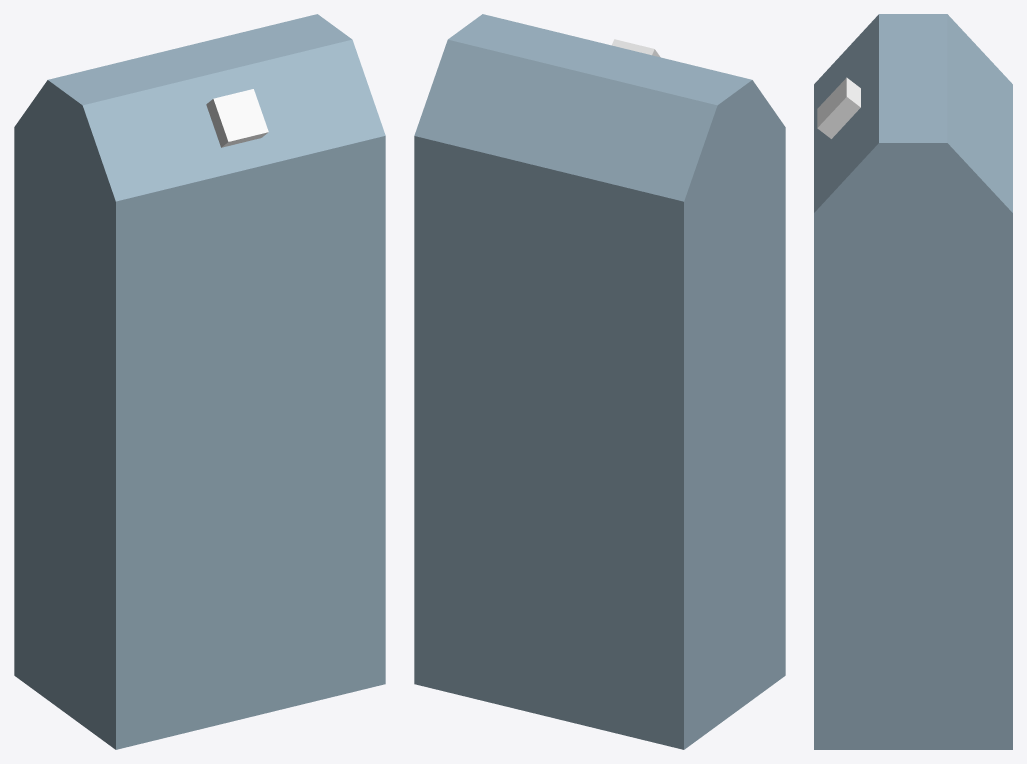
File: milk.fbx
The picture shows the model from 3 angles, left to right: view 1: azimuth 30°, elevation 25°; view 2: azimuth 150°, elevation 25°; view 3: azimuth 270°, elevation 25°; orthographic projection. The views are drawn at different scales.
Parts seen in each view (by area): view 1: Milk; view 2: Milk; view 3: Milk.
Boxes of the visible parts, x1,y1,x2,y2 form: Milk: (14,14,385,749); Milk: (414,14,785,749); Milk: (814,14,1012,749).
Bounding box in the file's own units: 4.46 × 9.8 × 2.91.
